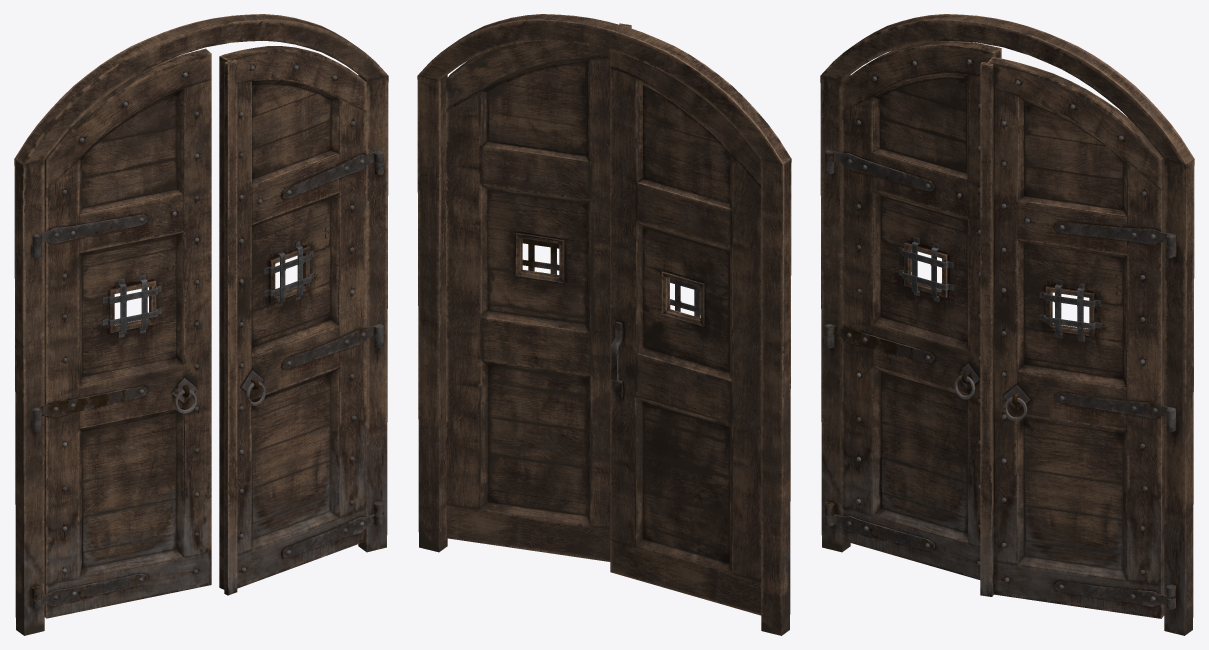
Rendered from large_castle_door_2k.gltf.
3 renders of one model, left to right at view 1: azimuth 30°, elevation 25°; view 2: azimuth 150°, elevation 25°; view 3: azimuth 330°, elevation 25°, orthographic.
Visible parts, largest first — view 1: large_castle_door_left, large_castle_door_right, large_castle_door_frame; view 2: large_castle_door_right, large_castle_door_left, large_castle_door_frame; view 3: large_castle_door_right, large_castle_door_left, large_castle_door_frame.
Boxes of the visible parts, x1,y1,x2,y2 form: large_castle_door_left: [32, 48, 211, 618]; large_castle_door_right: [219, 46, 383, 595]; large_castle_door_frame: [14, 14, 388, 635]; large_castle_door_right: [446, 23, 631, 561]; large_castle_door_left: [610, 50, 761, 615]; large_castle_door_frame: [417, 14, 791, 635]; large_castle_door_right: [980, 57, 1175, 618]; large_castle_door_left: [824, 41, 1001, 579]; large_castle_door_frame: [820, 14, 1194, 635].
Bounding box in the file's own units: 2.01 × 2.96 × 0.2963.
1 material, 1 textured.
